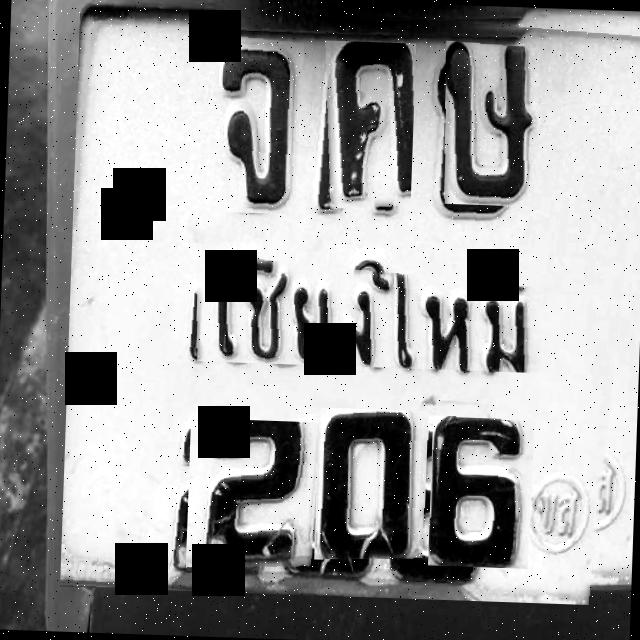letters: (186, 418, 326, 572), (204, 33, 304, 214), (314, 407, 429, 563), (319, 40, 416, 212), (440, 40, 540, 206), (428, 415, 534, 568)
license-plate: (60, 0, 640, 605)
province: (193, 253, 588, 374)
